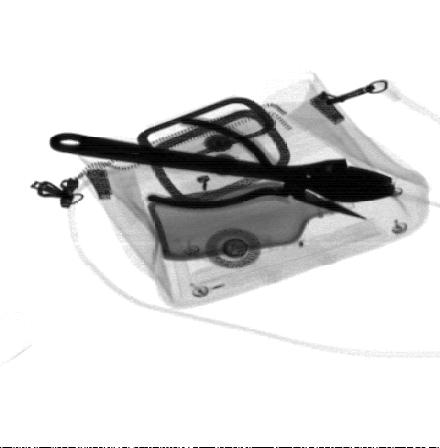Pliers: (149, 114, 370, 221)
Wrench: (46, 132, 395, 202)
